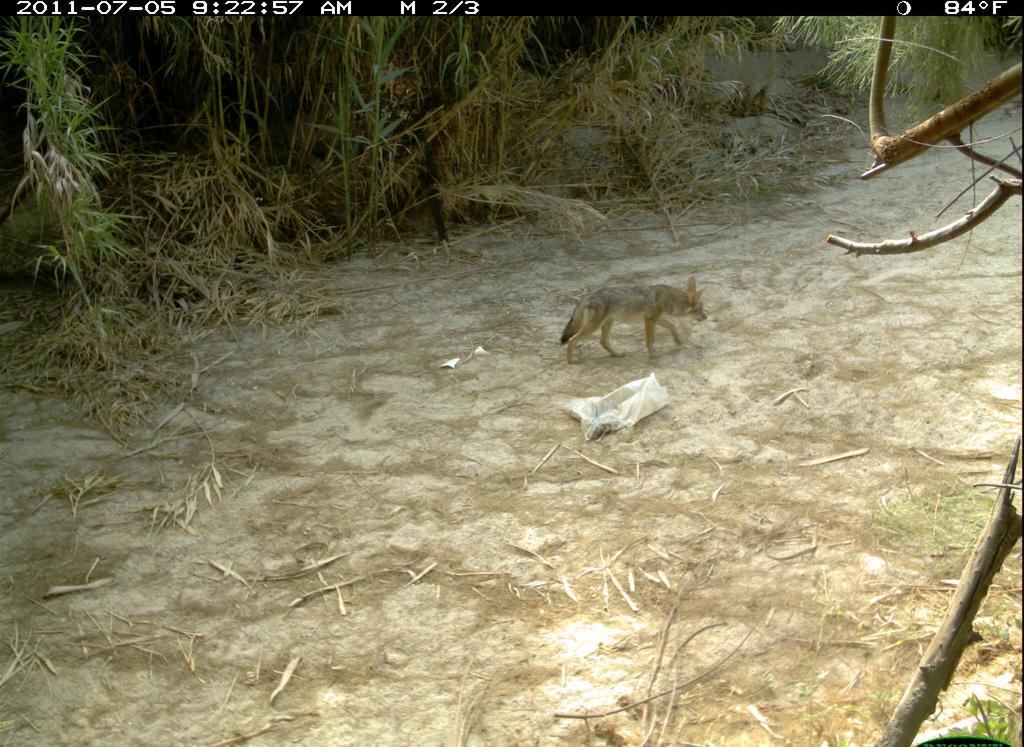coyote: (545, 273, 735, 372)
